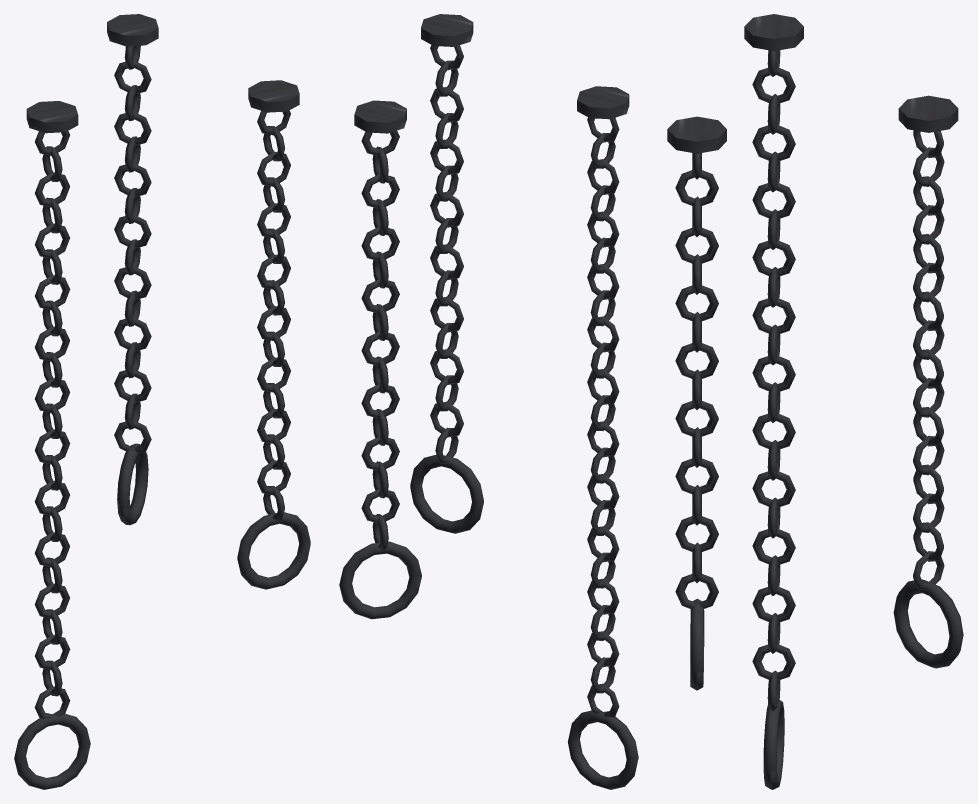
File: hangingChains.glb
3 renders of one model, left to right at view 1: azimuth 30°, elevation 25°; view 2: azimuth 150°, elevation 25°; view 3: azimuth 270°, elevation 25°, orthographic. The views are drawn at different scales.
Visible parts, largest first — view 1: anim_swing_0; view 2: anim_swing_0; view 3: anim_swing_0.
Part boxes in pixels (x1,y1,x2,y2): anim_swing_0: [14, 14, 310, 789]; anim_swing_0: [339, 14, 638, 789]; anim_swing_0: [667, 14, 963, 789].
Bounding box in the file's own units: 0.5078 × 1.26 × 0.4469.
Materials: 1 (1 with a texture image).
